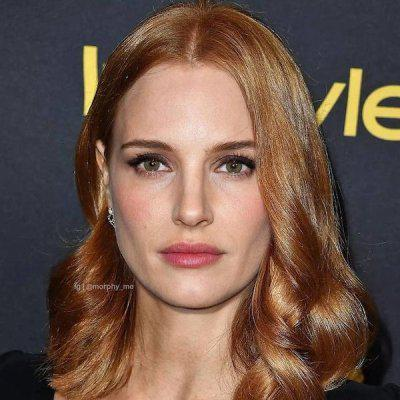Sober: (122, 79, 258, 288)
